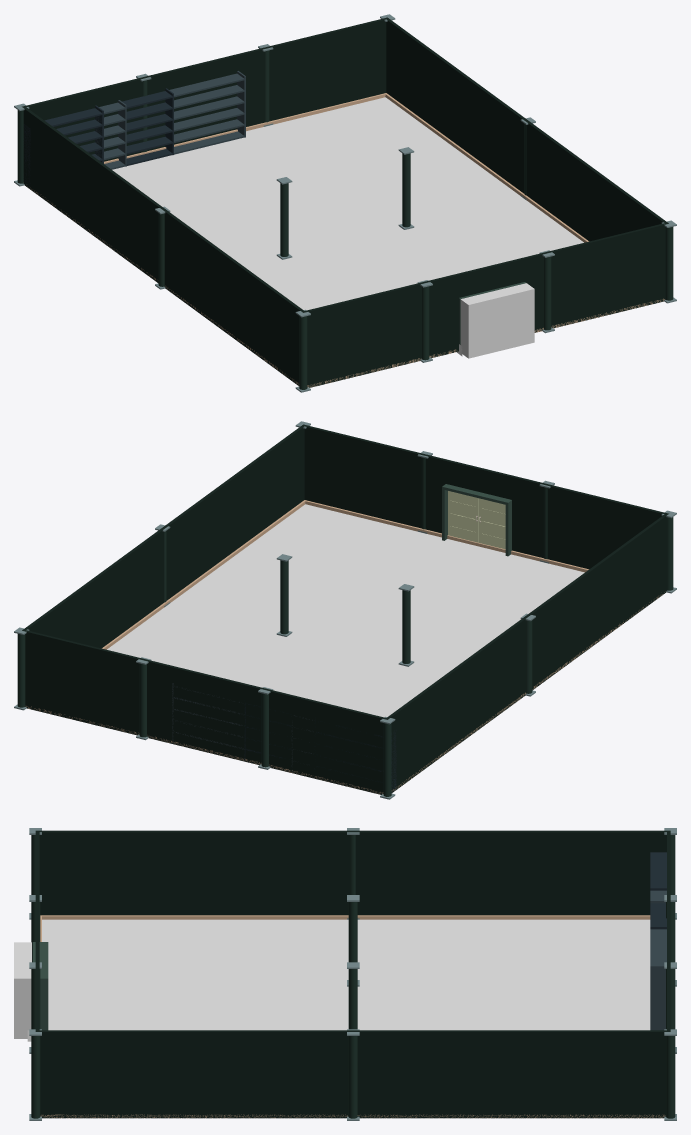
Rendered from LABARATUVAR1.fbx.
The picture shows the model from 3 angles, top to bottom: view 1: azimuth 30°, elevation 25°; view 2: azimuth 150°, elevation 25°; view 3: azimuth 270°, elevation 25°; orthographic projection. The views are drawn at different scales.
Visible parts, largest first — view 1: Room, Floor, Column, CTRL_Hole, Shelves4, Baseboard, Shelves3, Shelves1, Shelves2, Column_box_top; view 2: Room, Floor, Column, Baseboard, Door.001, Door, DoorFrame, Column_box_top; view 3: Room, Floor, Column, Baseboard, CTRL_Hole, Shelves4, Column_box_top, DoorFrame, Shelves1, Shelves3.
Boxes of the visible parts, x1,y1,x2,y2 form: Room: (22, 17, 668, 387); Floor: (112, 97, 583, 310); Column: (17, 50, 673, 389); CTRL_Hole: (460, 283, 534, 358); Shelves4: (169, 71, 245, 154); Baseboard: (23, 93, 664, 387); Shelves3: (122, 88, 173, 165); Shelves1: (23, 105, 103, 188); Shelves2: (95, 100, 126, 169); Column_box_top: (14, 14, 676, 317); Room: (22, 424, 668, 794); Floor: (107, 504, 584, 717); Column: (17, 457, 673, 796); Baseboard: (25, 500, 664, 794); Door.001: (448, 491, 478, 542); Door: (478, 498, 505, 549); DoorFrame: (442, 484, 511, 556); Column_box_top: (14, 421, 676, 724); Room: (35, 830, 670, 1118); Floor: (42, 919, 650, 1030); Column: (31, 835, 675, 1118); Baseboard: (40, 915, 665, 1118); CTRL_Hole: (14, 942, 31, 1038); Shelves4: (650, 929, 666, 1030); Column_box_top: (29, 828, 676, 1035); DoorFrame: (32, 942, 48, 1030); Shelves1: (650, 852, 666, 890); Shelves3: (650, 903, 666, 929).
Size of the model in its own units: 1540 by 310 by 2089.
